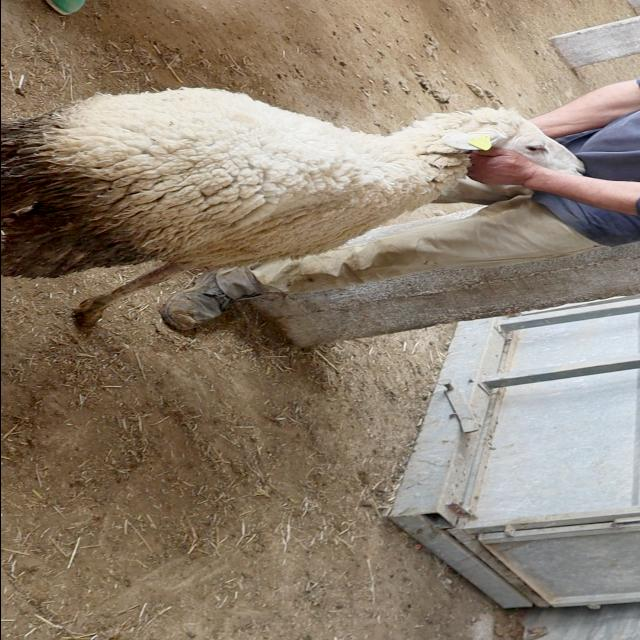Score_3: (1, 87, 580, 329)
